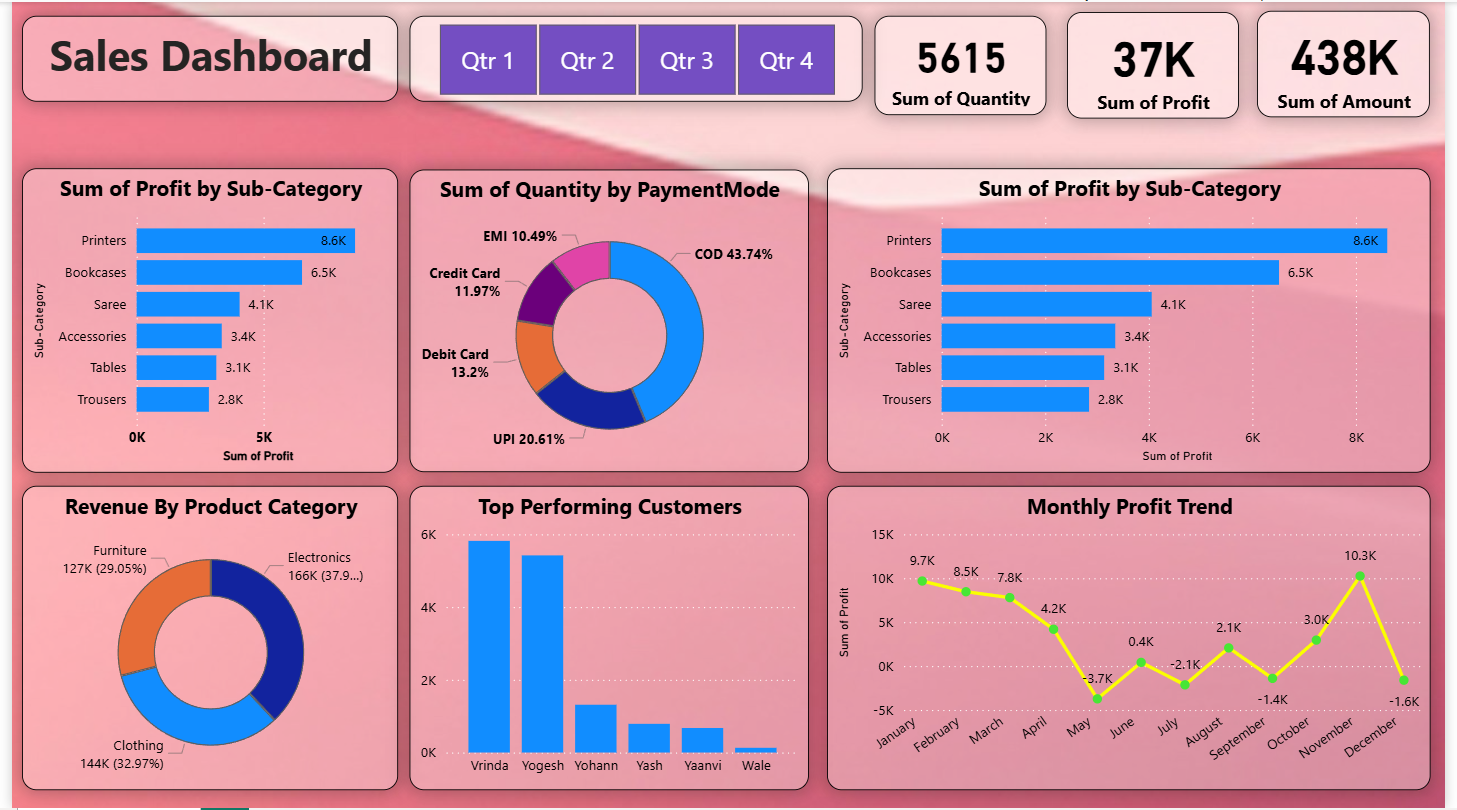

This screenshot's page, from the dashboard's own definition file:
{"tool":"powerbi","page":{"name":"Executive Overview","canvas":[1280,720],"ordinal":0},"visuals":[{"type":"textbox","box":[9.4,12.1,336.3,76.7],"z":0},{"type":"lineChart","title":"Monthly Profit Trend","fields":{"Category":["Orders.Order Date.Variation.Date Hierarchy.Month"],"Y":["Sum(Details.Profit)"]},"box":[727.7,431.8,539.4,271.7],"z":1000},{"type":"barChart","fields":{"Y":["Sum(Details.Profit)"],"Category":["Details.Sub-Category"]},"box":[727.7,148,539.4,271.7],"z":2000},{"type":"donutChart","title":"Revenue By  Product Category","fields":{"Y":["Sum(Details.Amount)"],"Category":["Details.Category"]},"box":[9.4,431.8,336.3,271.7],"z":3000},{"type":"donutChart","fields":{"Y":["Sum(Details.Quantity)"],"Category":["Details.PaymentMode"]},"box":[355.1,149.3,356.5,270.4],"z":4000},{"type":"card","fields":{"Values":["Sum(Details.Amount)"]},"box":[1112.4,8.1,154.7,95.5],"z":5000},{"type":"card","fields":{"Values":["Sum(Details.Profit)"]},"box":[942.9,9.4,153.3,95.5],"z":6000},{"type":"card","fields":{"Values":["Sum(Details.Quantity)"]},"box":[770.7,12.1,153.3,88.8],"z":7000},{"type":"barChart","fields":{"Y":["Sum(Details.Profit)"],"Category":["Details.Sub-Category"]},"box":[9.4,148,336.3,271.7],"z":8000},{"type":"lineStackedColumnComboChart","title":"Top Performing Customers","fields":{"Category":["Orders.CustomerName"],"Y":["Sum(Details.Amount)"]},"box":[355.1,431.8,356.5,271.7],"z":9000},{"type":"slicer","fields":{"Values":["Orders.Order Date.Variation.Date Hierarchy.Quarter"]},"box":[355.1,12.1,404.9,76.7],"z":10000}]}

Visuals, with their boxes in screenshot pixels (x1, y1, x2, y2), scaled from the page's 1280x720 canvas onto the 1457x810 screenshot:
textbox: left=11, top=14, right=394, bottom=100
"Monthly Profit Trend" lineChart: left=828, top=486, right=1442, bottom=791
barChart - Sum(Details.Profit) x Details.Sub-Category: left=828, top=166, right=1442, bottom=472
"Revenue By  Product Category" donutChart: left=11, top=486, right=394, bottom=791
donutChart - Sum(Details.Quantity) x Details.PaymentMode: left=404, top=168, right=810, bottom=472
card - Sum(Details.Amount): left=1266, top=9, right=1442, bottom=117
card - Sum(Details.Profit): left=1073, top=11, right=1248, bottom=118
card - Sum(Details.Quantity): left=877, top=14, right=1052, bottom=114
barChart - Sum(Details.Profit) x Details.Sub-Category: left=11, top=166, right=394, bottom=472
"Top Performing Customers" lineStackedColumnComboChart: left=404, top=486, right=810, bottom=791
slicer - Orders.Order Date.Variation.Date Hierarchy.Quarter: left=404, top=14, right=865, bottom=100
